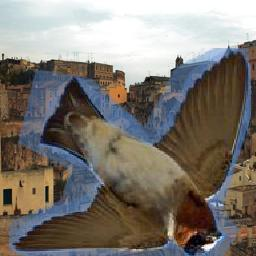Swallow: (9, 48, 251, 256)
